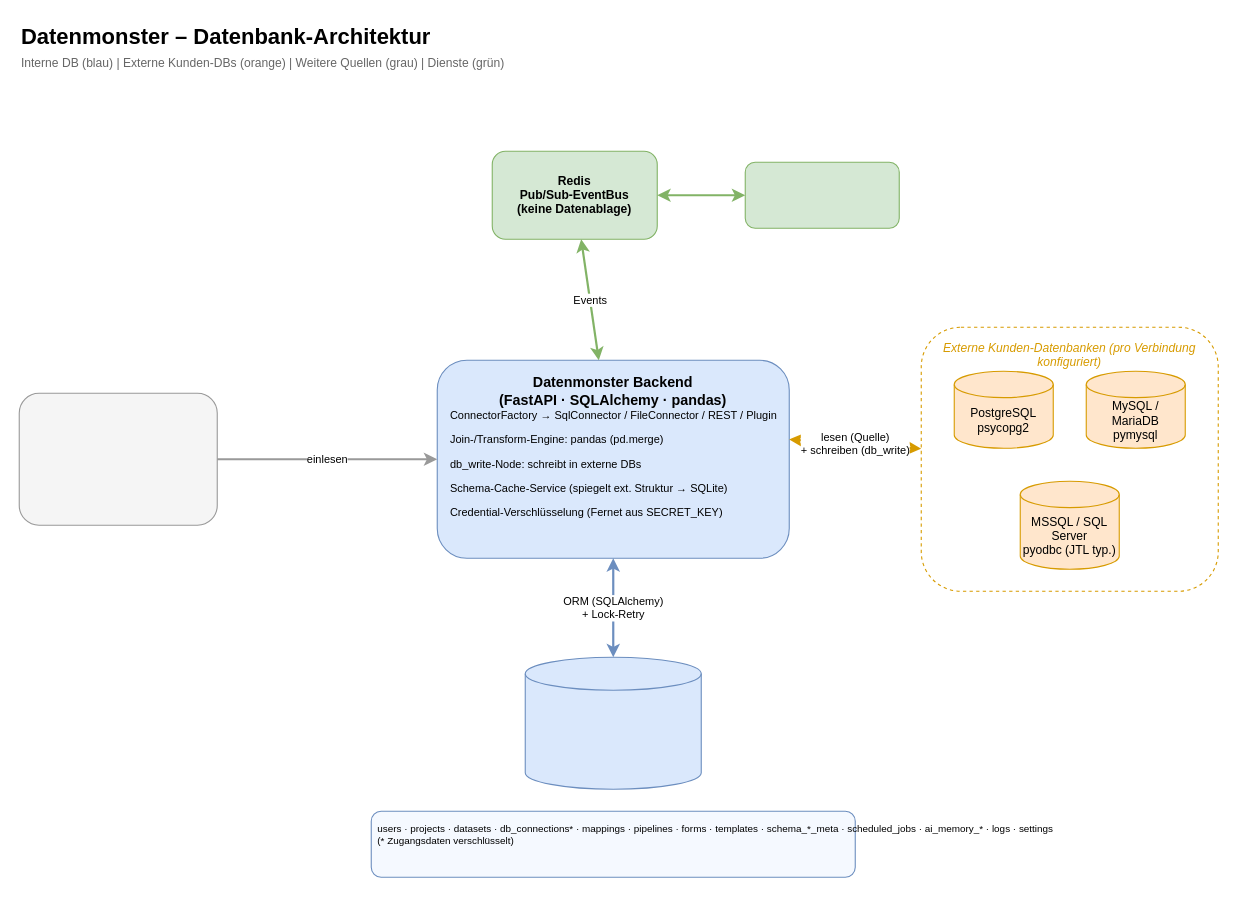
Some shapes in this 1238 by 897 pixel diagram are drawn without their labels. Here are the shapes that lost their labels. From the top down, the centre of each, then its label:
the point at 821,194: Plugin-ManagerPlugin-Manager (Tier-2-Plugins)#10;(Dienst-Plugins)
the point at 117,458: Weitere Quellen CSV · XLSX · XML · JSON · ODS · REST-API · Plugins (JTL u.a.)
the point at 612,722: SQLite datenmonster.db (interne Anwendungs-DB)
